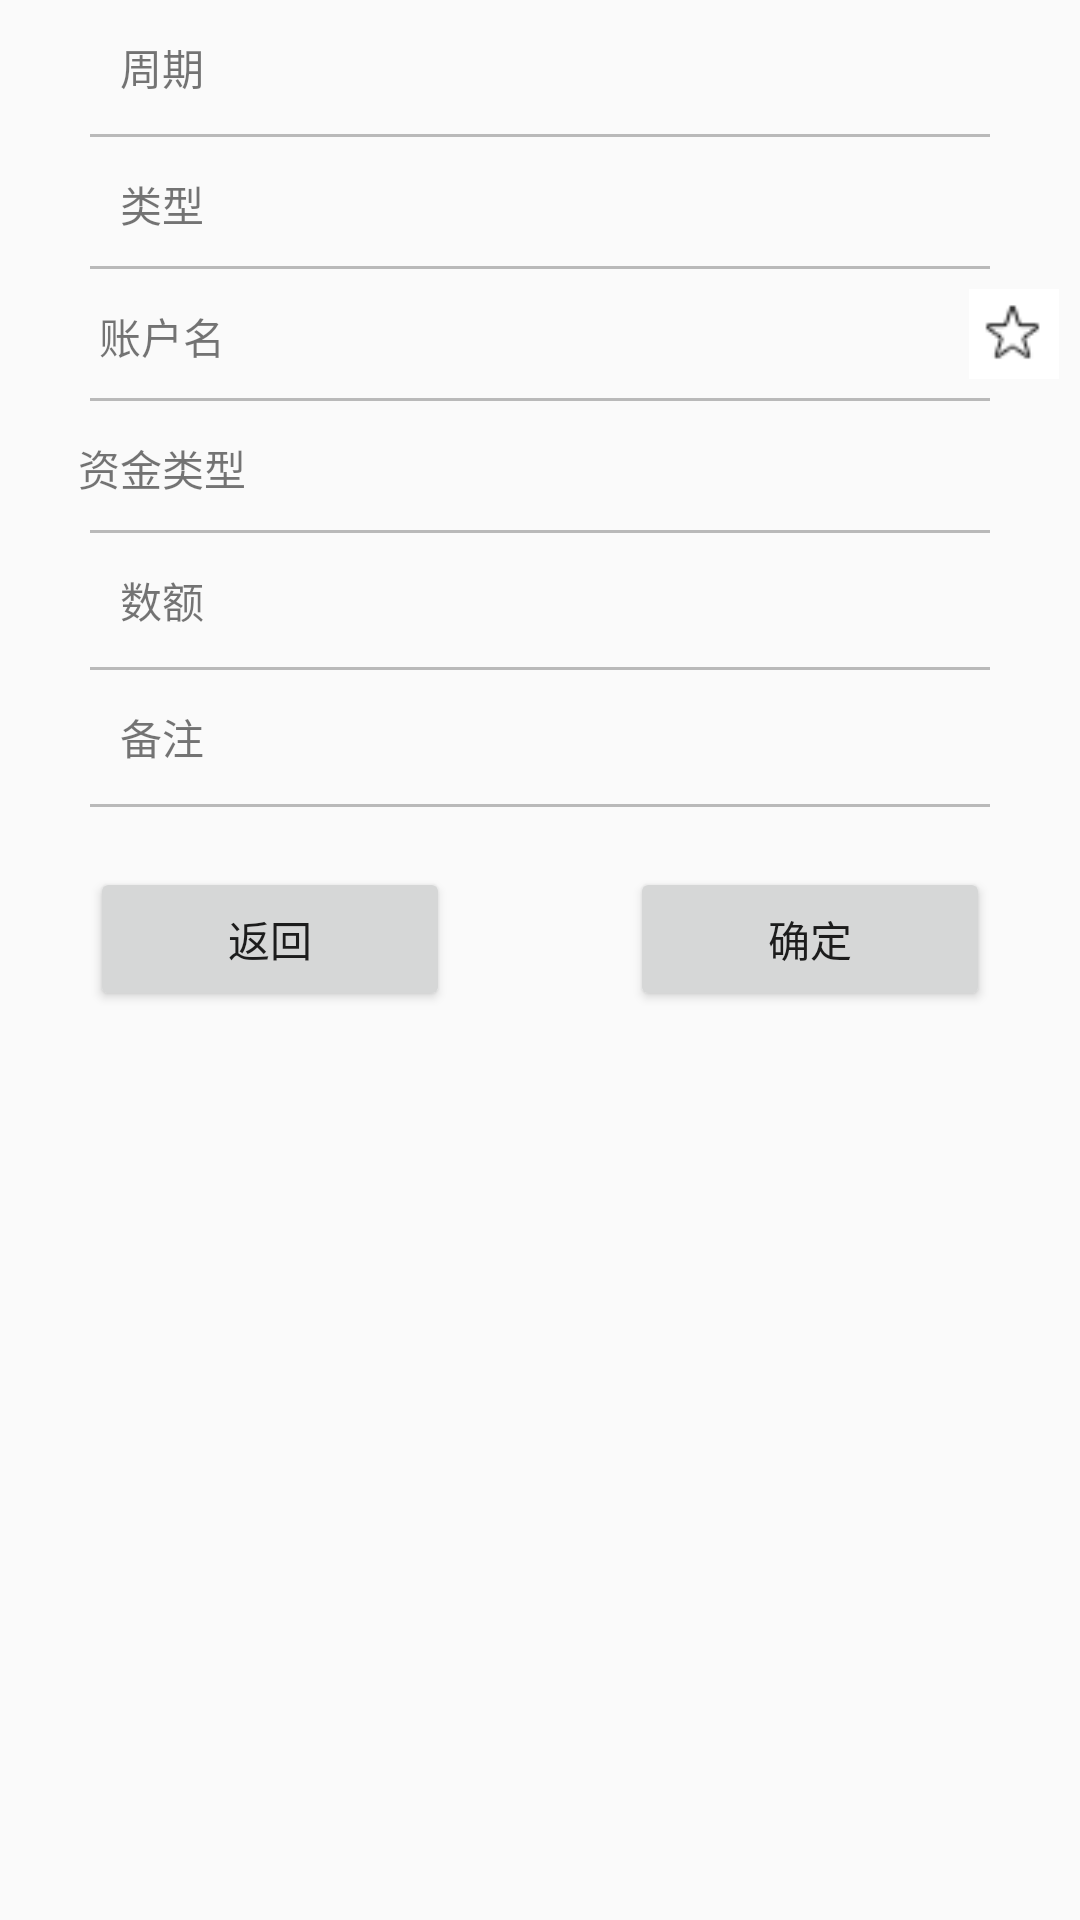

Icon bounding boxes for this 1080 × 1920 phone screenshot, format box=[x1, y1, x2, y2]:
mark: box=[985, 305, 1040, 359]
